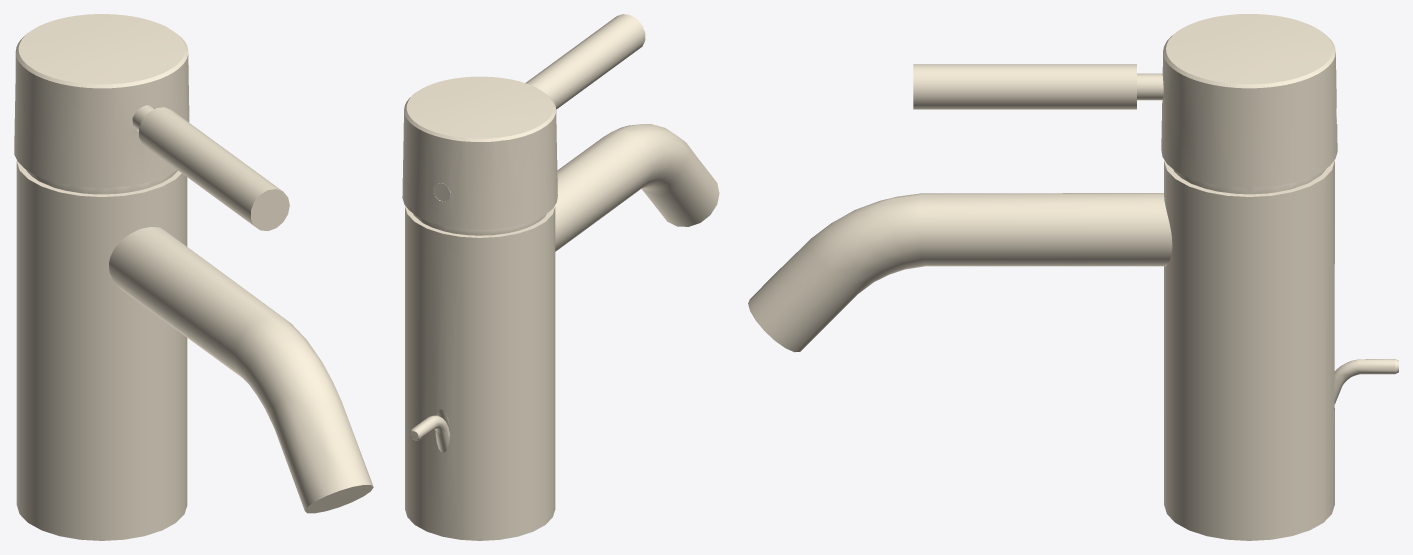
3 renders of one model, left to right at view 1: azimuth 30°, elevation 25°; view 2: azimuth 150°, elevation 25°; view 3: azimuth 270°, elevation 25°, orthographic. The views are drawn at different scales.
Visible parts, largest first — view 1: L_86392001_dea6_443b_9beb_83b72645bcee_I4, L_eba97abb_d69d_467f_9fb6_ce883ce695e5_I6, L_988a0db4_95fc_456a_949c_9ed2fd407976_I5, L_4fc056a4_26e0_46f9_9d84_6a3c61ff8eb3_I2, L_f6552664_2948_4122_857e_bb723b40fd95_I7; view 2: L_86392001_dea6_443b_9beb_83b72645bcee_I4, L_988a0db4_95fc_456a_949c_9ed2fd407976_I5, L_eba97abb_d69d_467f_9fb6_ce883ce695e5_I6, L_4fc056a4_26e0_46f9_9d84_6a3c61ff8eb3_I2, L_30fe2a9d_bcca_4c36_be92_f324f2e7d3c5_I1, L_f6552664_2948_4122_857e_bb723b40fd95_I7; view 3: L_86392001_dea6_443b_9beb_83b72645bcee_I4, L_eba97abb_d69d_467f_9fb6_ce883ce695e5_I6, L_988a0db4_95fc_456a_949c_9ed2fd407976_I5, L_4fc056a4_26e0_46f9_9d84_6a3c61ff8eb3_I2, L_30fe2a9d_bcca_4c36_be92_f324f2e7d3c5_I1, L_f6552664_2948_4122_857e_bb723b40fd95_I7.
Boxes of the visible parts, x1,y1,x2,y2 form: L_86392001_dea6_443b_9beb_83b72645bcee_I4: [16, 160, 187, 540]; L_eba97abb_d69d_467f_9fb6_ce883ce695e5_I6: [109, 227, 373, 513]; L_988a0db4_95fc_456a_949c_9ed2fd407976_I5: [14, 14, 189, 187]; L_4fc056a4_26e0_46f9_9d84_6a3c61ff8eb3_I2: [132, 105, 289, 230]; L_f6552664_2948_4122_857e_bb723b40fd95_I7: [26, 169, 177, 194]; L_86392001_dea6_443b_9beb_83b72645bcee_I4: [405, 205, 555, 540]; L_988a0db4_95fc_456a_949c_9ed2fd407976_I5: [402, 76, 557, 229]; L_eba97abb_d69d_467f_9fb6_ce883ce695e5_I6: [555, 124, 719, 251]; L_4fc056a4_26e0_46f9_9d84_6a3c61ff8eb3_I2: [525, 14, 645, 109]; L_30fe2a9d_bcca_4c36_be92_f324f2e7d3c5_I1: [410, 415, 449, 452]; L_f6552664_2948_4122_857e_bb723b40fd95_I7: [413, 213, 546, 235]; L_86392001_dea6_443b_9beb_83b72645bcee_I4: [1164, 160, 1334, 540]; L_eba97abb_d69d_467f_9fb6_ce883ce695e5_I6: [748, 193, 1172, 352]; L_988a0db4_95fc_456a_949c_9ed2fd407976_I5: [1161, 14, 1337, 187]; L_4fc056a4_26e0_46f9_9d84_6a3c61ff8eb3_I2: [913, 64, 1163, 109]; L_30fe2a9d_bcca_4c36_be92_f324f2e7d3c5_I1: [1334, 359, 1398, 404]; L_f6552664_2948_4122_857e_bb723b40fd95_I7: [1173, 168, 1326, 194].
Bounding box in the file's own units: 0.0465 × 0.133 × 0.1715.
